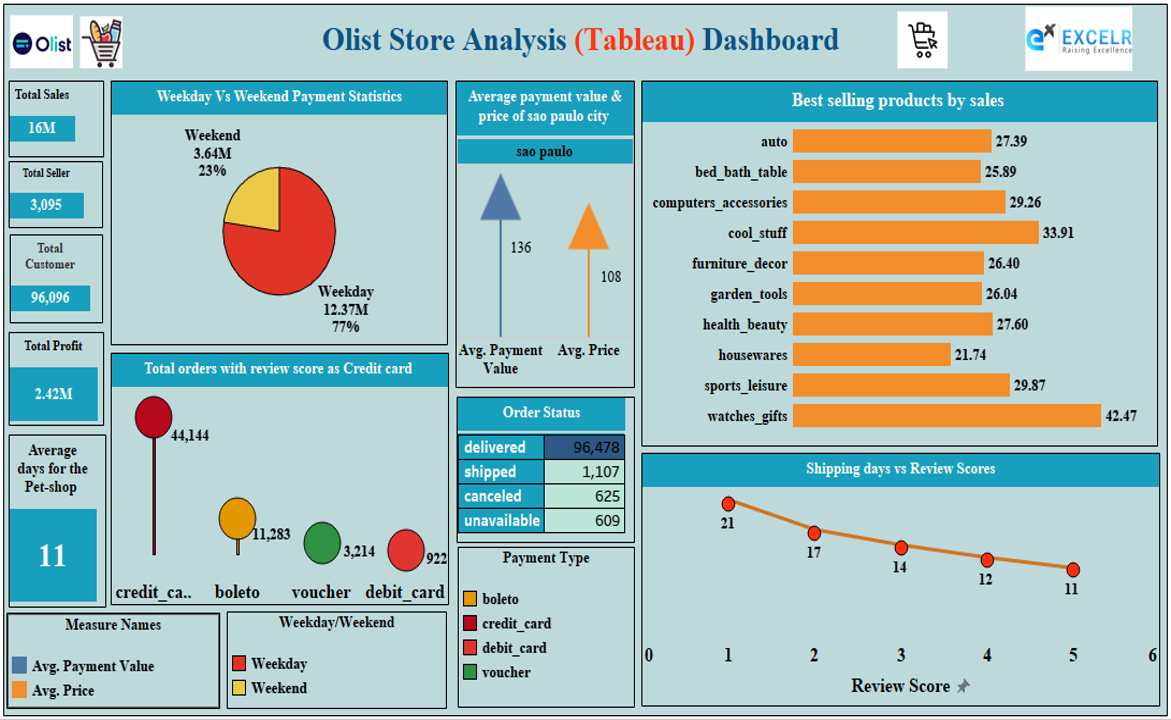

What the dashboard file says about the page in this screenshot:
{"tool":"tableau","page":{"name":"Dashboard 1","canvas":[1100,600],"ordinal":0},"visuals":[{"type":"image","param":"C:/Users/Admin/Desktop/ExcelR_Logo.jpg","box":[959,10,105,53]},{"type":"text","box":[10,11,1071,52]},{"type":"image","param":"C:/Users/Admin/Desktop/images.png","box":[840,14,47,50]},{"type":"image","param":"C:/Users/Admin/Desktop/1_HcUknIwnjCOoQJuE7iiwAg.png","box":[14,17,61,44]},{"type":"image","param":"C:/Users/Admin/Desktop/grocery-store-items-in-a-shopping-cart-9062ld.png","box":[79,18,45,43]},{"type":"worksheet","title":"Total Sales","mark":"Automatic","box":[13,71,89,63]},{"type":"worksheet","title":"Kpi 1","mark":"Pie","box":[108,71,314,217]},{"type":"worksheet","title":"Kpi 4","mark":"Automatic","cols":["customer_city"],"box":[429,71,167,252]},{"type":"worksheet","title":"Kpi 7","mark":"Automatic","rows":["product_category_name_english"],"cols":["payment_value"],"box":[602,71,481,300]},{"type":"image","param":"C:/Users/Admin/Desktop/ExcelR_Logo.jpg","box":[826,116,149,48]},{"type":"worksheet","title":"Total Seller","mark":"Automatic","box":[13,137,88,55]},{"type":"worksheet","title":"Total Customer","mark":"Automatic","box":[14,197,87,73]},{"type":"worksheet","title":"Total Profit","mark":"Automatic","box":[13,277,89,77]},{"type":"worksheet","title":"Kpi 2","mark":"Bar","rows":["olist_order_payments_dataset.csv_C7ADAD5A859B42CABED55FEABCB","olist_order_payments_dataset.csv_C7ADAD5A859B42CABED55FEABCB"],"cols":["payment_type"],"box":[108,294,315,207]},{"type":"worksheet","title":"Kpi 6","mark":"Square","rows":["order_status"],"box":[430,330,166,120]},{"type":"worksheet","title":"Kpi 3","mark":"Automatic","box":[13,361,91,142]},{"type":"worksheet","title":"Kpi 5","mark":"Line","rows":["Calculation_871165118404780033","Calculation_871165118404780033"],"cols":["review_score"],"box":[602,376,483,208]},{"type":"legend","title":"Kpi 2","param":"[federated.0ra75pw04x469b16t05um0exmskl].[none:payment_type:nk]","box":[431,453,165,132]},{"type":"legend","title":"Kpi 1","param":"[federated.0ra75pw04x469b16t05um0exmskl].[none:Calculation_192247474532720640:nk","box":[216,506,205,80]},{"type":"legend","title":"Kpi 4","param":"[federated.0ra75pw04x469b16t05um0exmskl].[:Measure Names]","box":[11,507,199,79]}]}

Visuals, with their boxes in screenshot pixels (x1, y1, x2, y2):
image: detection(1029, 78, 1143, 136)
text: detection(0, 79, 1161, 136)
image: detection(899, 82, 950, 137)
image: detection(0, 86, 66, 133)
image: detection(71, 87, 120, 133)
"Total Sales" worksheet: detection(0, 144, 96, 213)
"Kpi 1" worksheet (Pie marks): detection(102, 144, 444, 381)
"Kpi 4" worksheet: detection(452, 144, 633, 419)
"Kpi 7" worksheet: detection(640, 144, 1163, 471)
image: detection(884, 193, 1046, 246)
"Total Seller" worksheet: detection(0, 216, 95, 276)
"Total Customer" worksheet: detection(0, 282, 95, 361)
"Total Profit" worksheet: detection(0, 369, 96, 452)
"Kpi 2" worksheet (Bar marks): detection(102, 387, 445, 612)
"Kpi 6" worksheet (Square marks): detection(453, 426, 633, 557)
"Kpi 3" worksheet: detection(0, 460, 98, 615)
"Kpi 5" worksheet (Line marks): detection(640, 476, 1166, 703)
"Kpi 2" legend: detection(454, 560, 633, 704)
"Kpi 1" legend: detection(220, 618, 443, 705)
"Kpi 4" legend: detection(0, 619, 213, 705)
